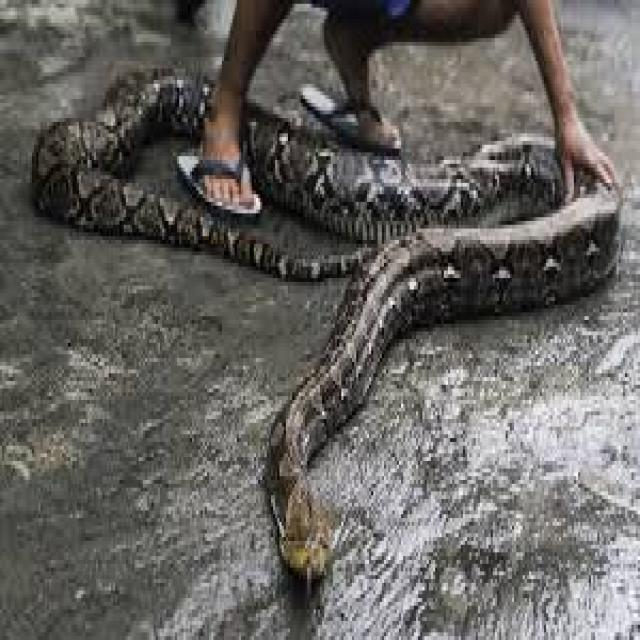Snake: (24, 54, 627, 590)
